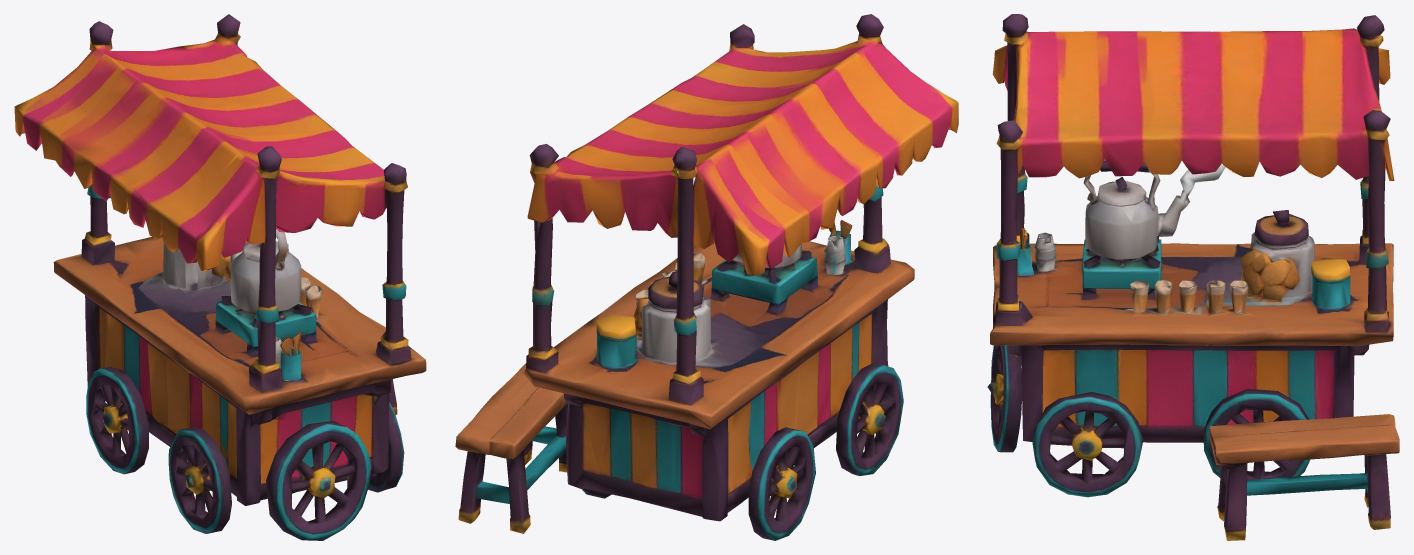
The model's file is street-chai-stall.glb.
3 renders of one model, left to right at view 1: azimuth 30°, elevation 25°; view 2: azimuth 150°, elevation 25°; view 3: azimuth 270°, elevation 25°, orthographic. The views are drawn at different scales.
Parts seen in each view (by area): view 1: tripo_node_b2a217e0-f9c9-417e-b1b2-4222de37b148; view 2: tripo_node_b2a217e0-f9c9-417e-b1b2-4222de37b148; view 3: tripo_node_b2a217e0-f9c9-417e-b1b2-4222de37b148.
Part boxes in pixels (x1,y1,x2,y2): tripo_node_b2a217e0-f9c9-417e-b1b2-4222de37b148: [14, 14, 426, 540]; tripo_node_b2a217e0-f9c9-417e-b1b2-4222de37b148: [455, 14, 958, 540]; tripo_node_b2a217e0-f9c9-417e-b1b2-4222de37b148: [987, 14, 1399, 540].
Size of the model in its own units: 0.8033 by 1 by 0.9075.
1 material, 1 textured.
